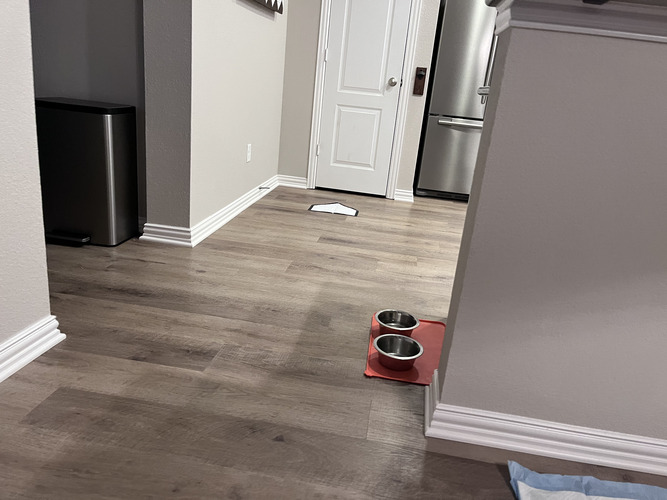homeplate: (307, 201, 358, 217)
